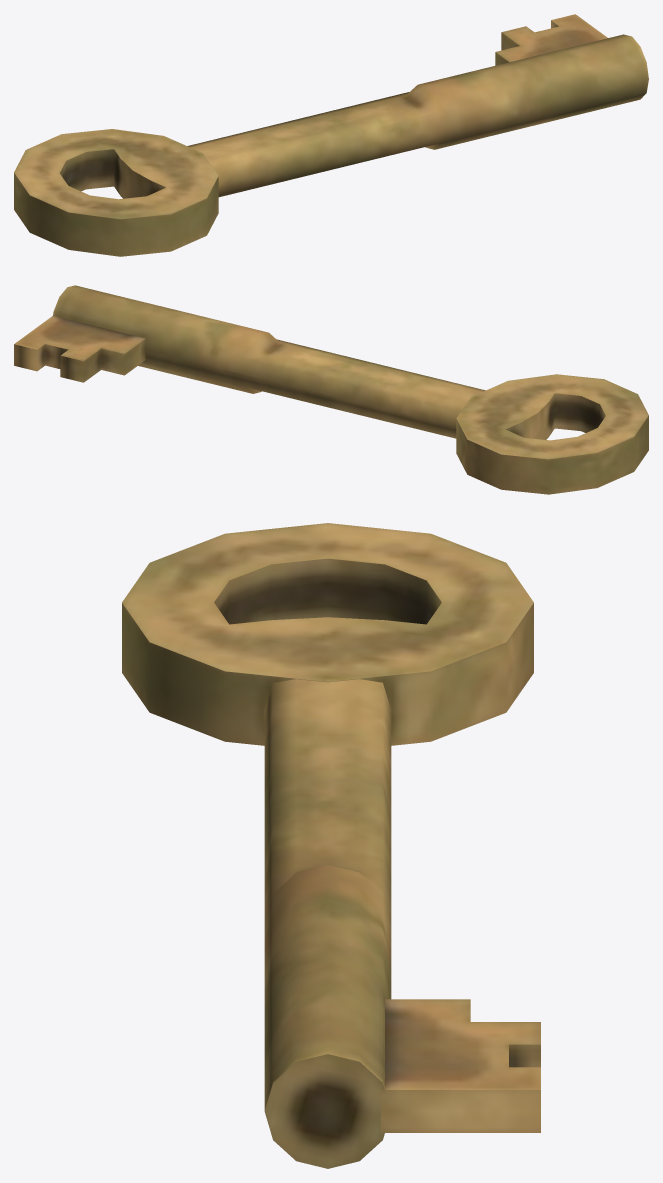
The model's file is Key.gltf.
3 renders of one model, top to bottom at view 1: azimuth 30°, elevation 25°; view 2: azimuth 150°, elevation 25°; view 3: azimuth 270°, elevation 25°, orthographic. The views are drawn at different scales.
Parts seen in each view (by area): view 1: SM_Key; view 2: SM_Key; view 3: SM_Key.
Part boxes in pixels (x1,y1,x2,y2): SM_Key: (14,14,648,256); SM_Key: (14,285,648,494); SM_Key: (122,523,540,1168).
Size of the model in its own units: 0.0826 by 0.008 by 0.0264.
1 material, 1 textured.
